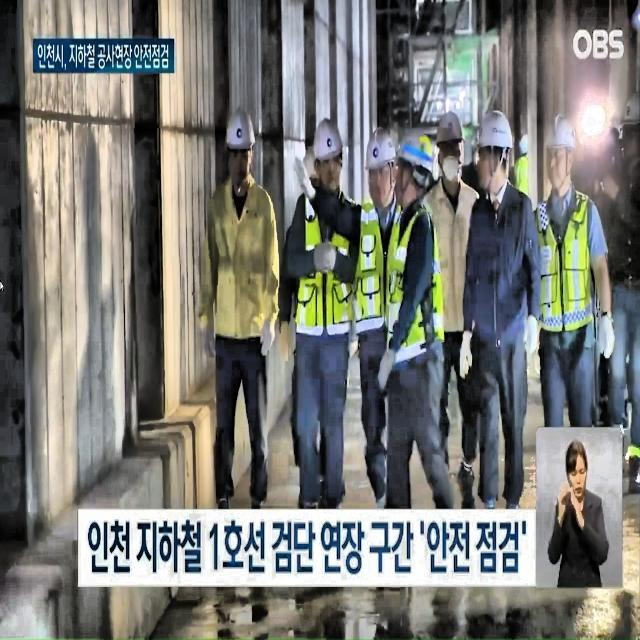safety_helmet: (394, 123, 438, 205), (477, 112, 527, 181), (539, 116, 589, 170), (306, 116, 352, 166), (364, 134, 406, 187), (223, 109, 268, 158), (426, 117, 468, 168)
safety_jacket: (536, 205, 629, 348), (291, 208, 348, 355), (386, 230, 446, 360), (358, 211, 399, 340)
